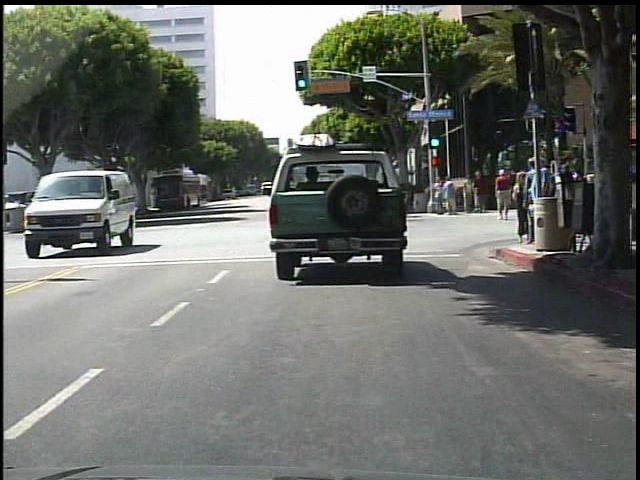person: (528, 155, 555, 254), (524, 155, 539, 246), (510, 171, 528, 244), (493, 169, 514, 221), (520, 178, 538, 227), (540, 171, 554, 219), (442, 178, 457, 218), (475, 170, 488, 212), (463, 176, 475, 214), (435, 178, 445, 217)
